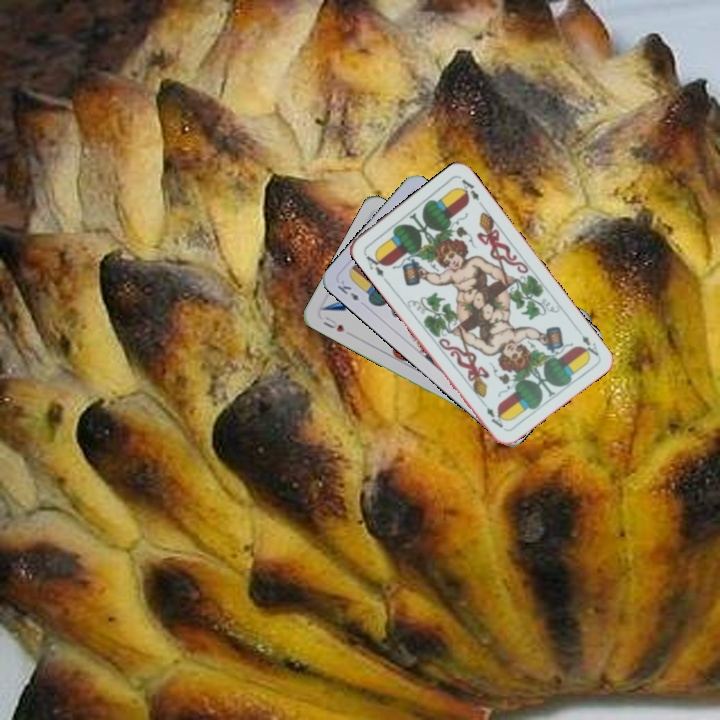EA: (360, 248, 387, 280), (577, 331, 601, 360)
EK: (333, 276, 362, 304)
HU: (319, 312, 347, 335)
